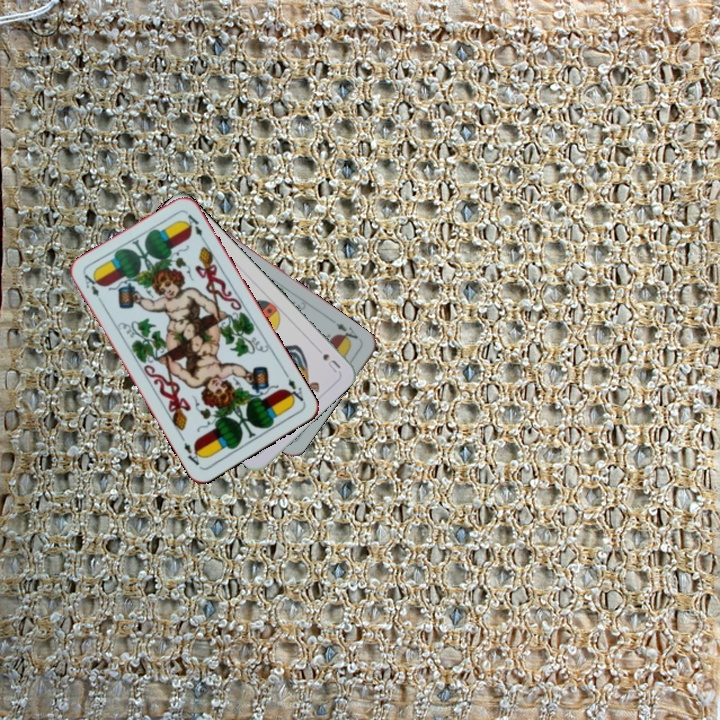EA: (80, 270, 106, 307), (281, 369, 306, 406), (332, 319, 361, 346)
SU: (319, 349, 343, 375)
